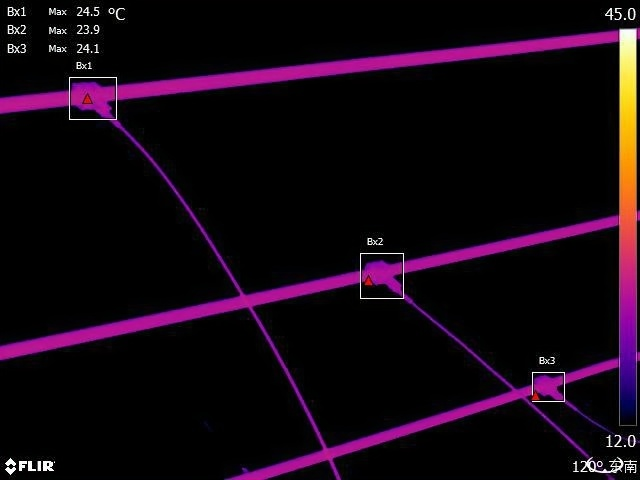clamp: (71, 79, 115, 118), (362, 257, 401, 295), (537, 376, 564, 402)
